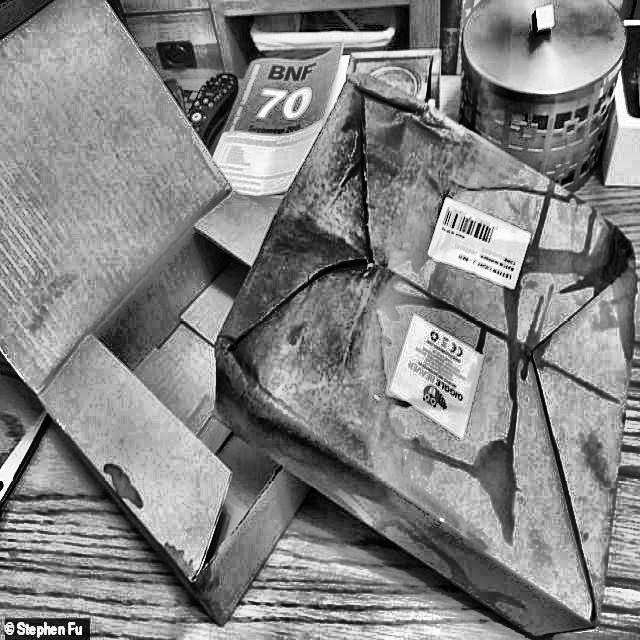box: (206, 57, 639, 639)
wet: (236, 82, 593, 536)
